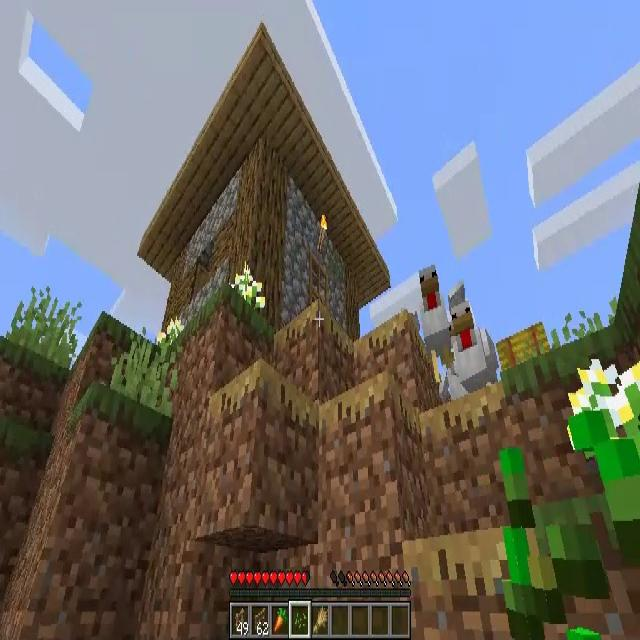duck: (445, 302, 500, 395), (418, 266, 448, 348)
flower: (572, 360, 638, 447)
